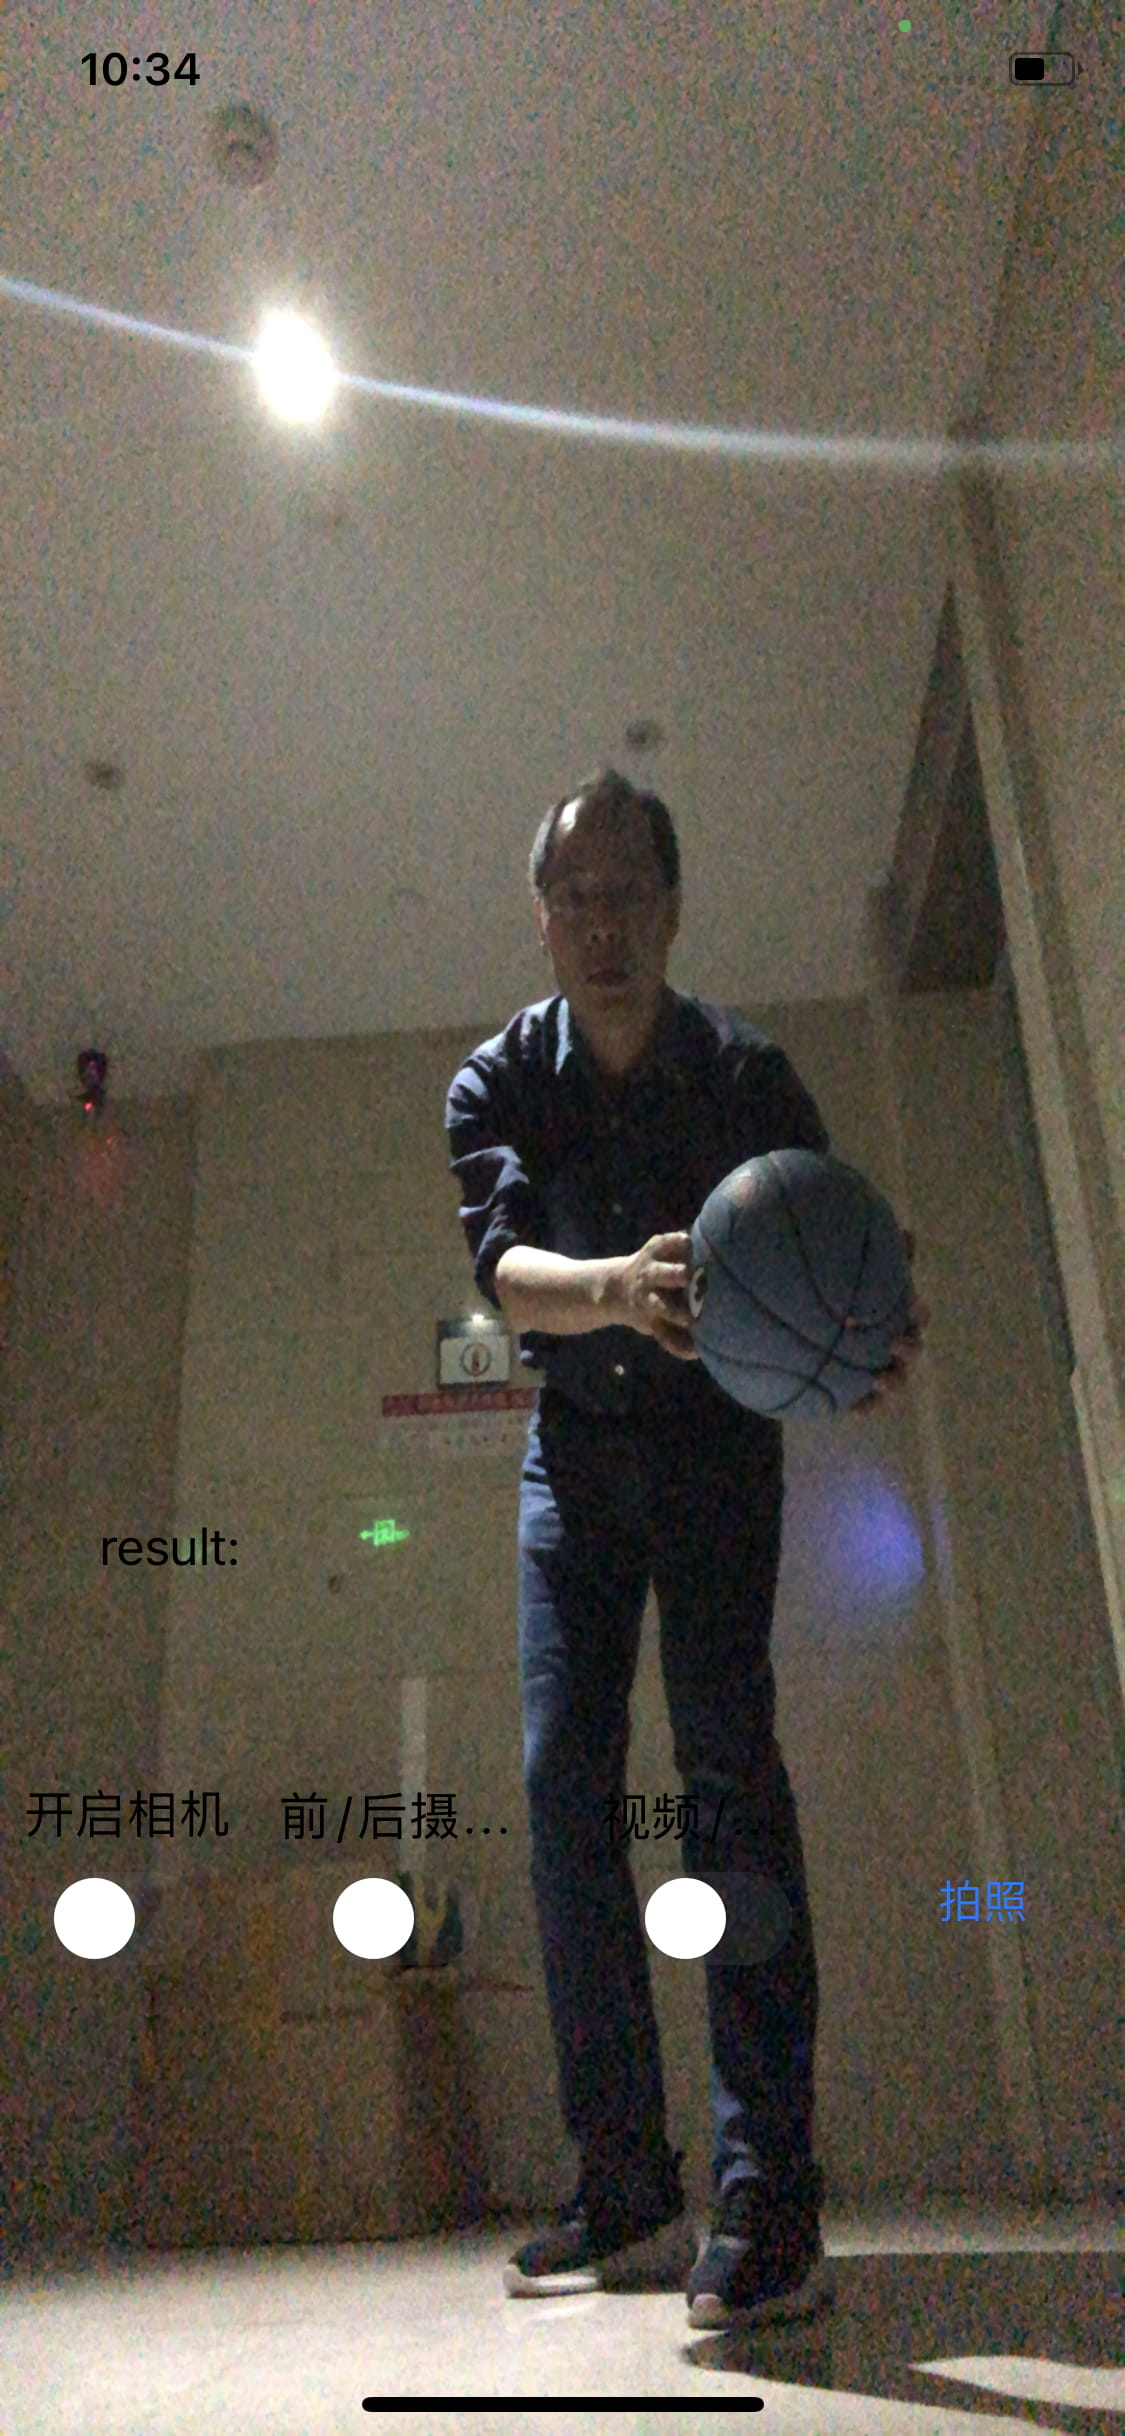ball: (685, 1153, 912, 1417)
